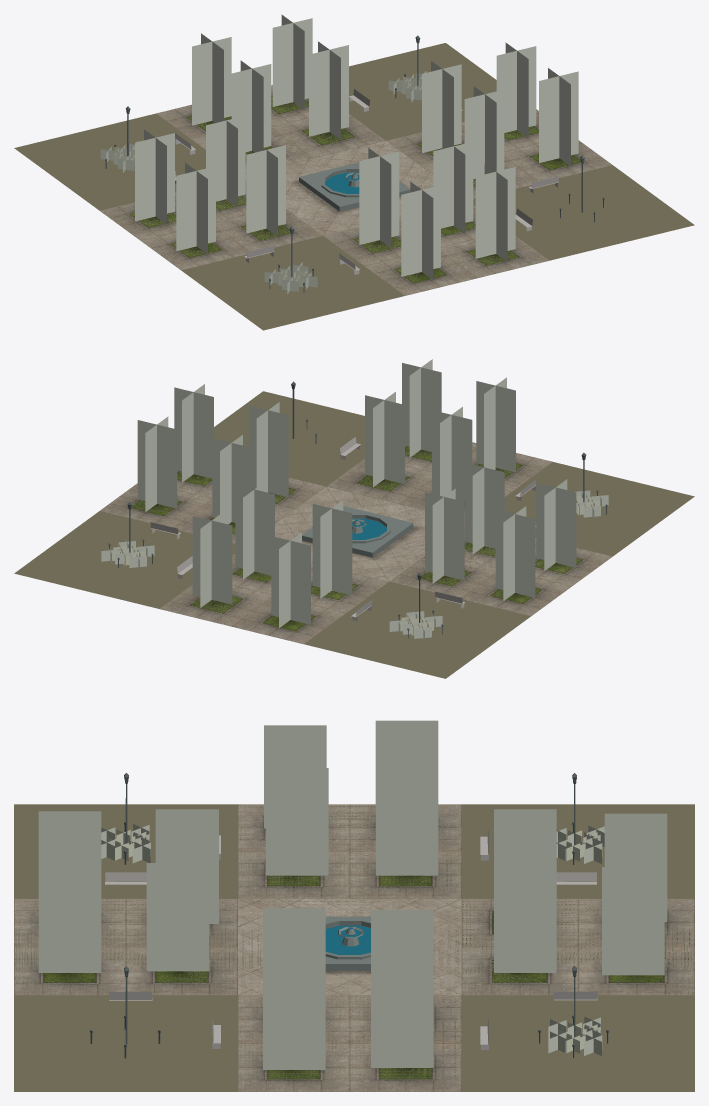
Rendered from superparkandy.fbx.
3 renders of one model, top to bottom at view 1: azimuth 30°, elevation 25°; view 2: azimuth 150°, elevation 25°; view 3: azimuth 270°, elevation 25°, orthographic. The views are drawn at different scales.
Visible parts, largest first — view 1: skp436_1, Group104, Group126, Group108, Group120, Group102, Group128, Group132, Group116, Group130, Group110, Group118 (+22 smaller); view 2: skp436_1, Group112, Group110, Group102, Group122, Group116, Group118, Group106, Group128, Group124, Group114, Group108 (+22 smaller); view 3: skp436_1, Group105, Group121, Group109, Group107, Group115, Group111, Group123, Group131, Group127, Group129, Group113 (+6 smaller).
Boxes of the visible parts, x1,y1,x2,y2 form: skp436_1: (14, 35, 694, 330); Group104: (475, 167, 515, 258); Group126: (359, 151, 399, 244); Group108: (309, 45, 348, 136); Group120: (539, 71, 578, 162); Group102: (401, 185, 440, 276); Group128: (192, 37, 231, 125); Group132: (422, 64, 461, 152); Group116: (135, 133, 174, 221); Group130: (246, 145, 285, 233); Group110: (272, 18, 312, 106); Group118: (176, 166, 215, 251); skp436_1: (14, 381, 694, 678); Group112: (312, 504, 352, 595); Group110: (192, 516, 232, 604); Group102: (476, 381, 515, 472); Group122: (137, 420, 177, 508); Group116: (495, 509, 535, 597); Group118: (536, 482, 576, 567); Group106: (365, 395, 404, 483); Group128: (271, 536, 310, 624); Group124: (248, 405, 288, 497); Group114: (425, 492, 464, 580); Group108: (235, 485, 274, 575); skp436_1: (14, 773, 694, 1091); Group105: (38, 861, 101, 972); Group121: (263, 957, 325, 1069); Group109: (494, 861, 556, 972); Group107: (146, 863, 209, 971); Group115: (375, 768, 438, 875); Group111: (602, 867, 664, 975); Group123: (371, 960, 433, 1067); Group131: (266, 768, 328, 875); Group127: (155, 809, 218, 923); Group129: (604, 813, 667, 921); Group113: (494, 809, 556, 860).
Size of the model in its own units: 4000 by 812 by 4000.
